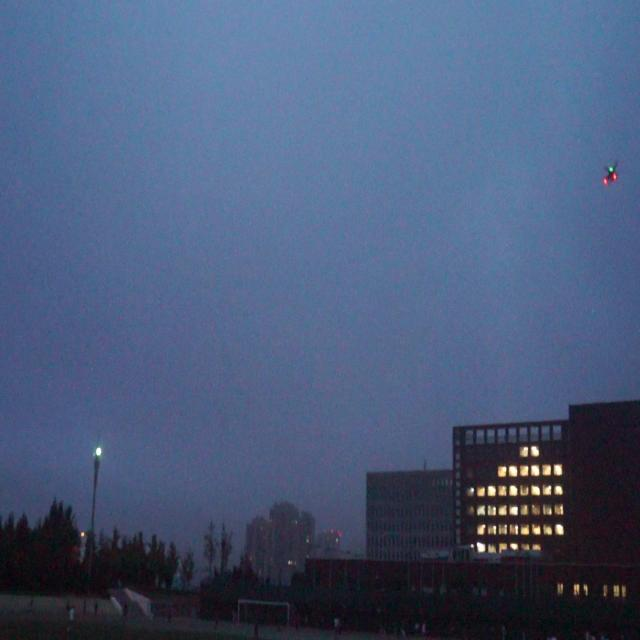drone: (601, 160, 621, 190)
